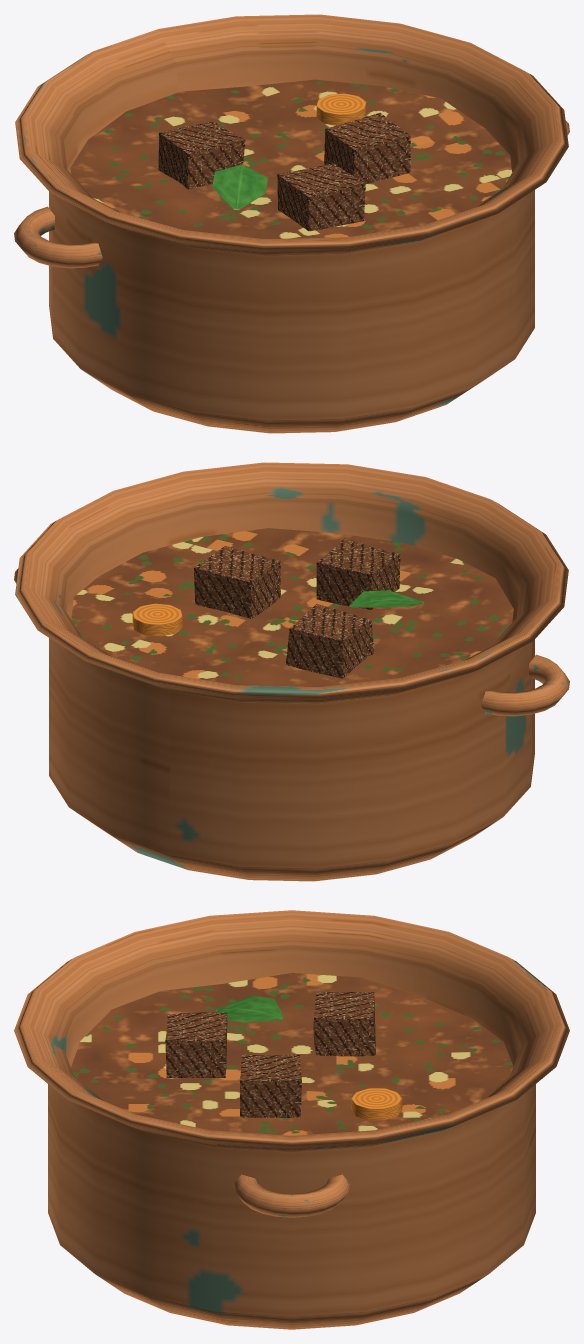
File: tomsspecial.obj
3 views of the same model, one above another, from view 1: azimuth 30°, elevation 25°; view 2: azimuth 150°, elevation 25°; view 3: azimuth 270°, elevation 25° (orthographic).
Visible parts, largest first — view 1: tomsspecial_0_surface, tomsspecial_1_surface; view 2: tomsspecial_0_surface, tomsspecial_1_surface; view 3: tomsspecial_0_surface, tomsspecial_1_surface.
Part boxes in pixels (box(x1,y1,x2,y2)): tomsspecial_0_surface: box(14, 14, 569, 433); tomsspecial_1_surface: box(70, 79, 512, 238); tomsspecial_0_surface: box(14, 462, 569, 881); tomsspecial_1_surface: box(71, 528, 513, 686); tomsspecial_0_surface: box(14, 910, 569, 1329); tomsspecial_1_surface: box(71, 973, 513, 1135).
Size of the model in its own units: 0.294 by 0.114 by 0.2622.
Materials: 2 (2 with a texture image).
